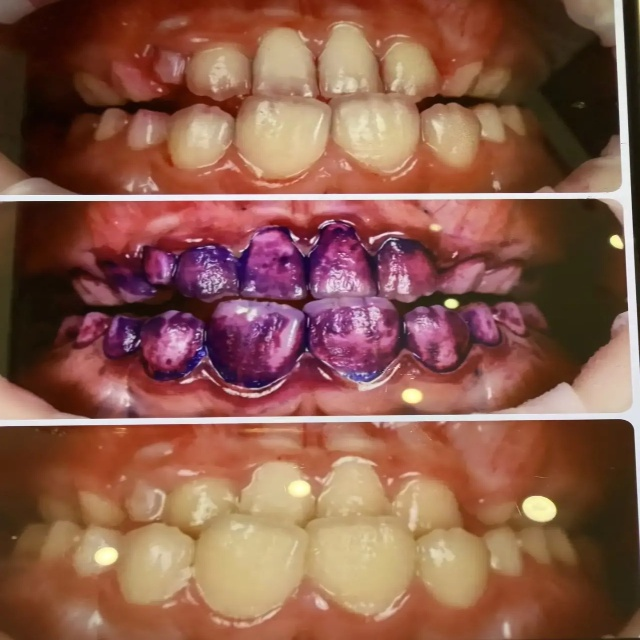clean_tooth: (222, 521, 298, 591), (252, 100, 329, 163), (336, 97, 410, 159), (320, 529, 393, 580), (573, 349, 628, 409), (322, 24, 369, 93), (258, 37, 310, 95), (247, 463, 309, 510), (144, 538, 191, 591), (322, 458, 368, 511), (186, 116, 228, 156), (590, 152, 622, 191), (82, 533, 117, 568), (578, 0, 617, 26), (191, 485, 215, 523), (208, 54, 236, 86), (391, 60, 415, 94), (428, 540, 457, 567), (430, 114, 457, 143), (523, 496, 555, 520)
plaque: (117, 222, 381, 385), (404, 307, 443, 343), (106, 317, 136, 355), (376, 239, 414, 269), (461, 309, 491, 340)
